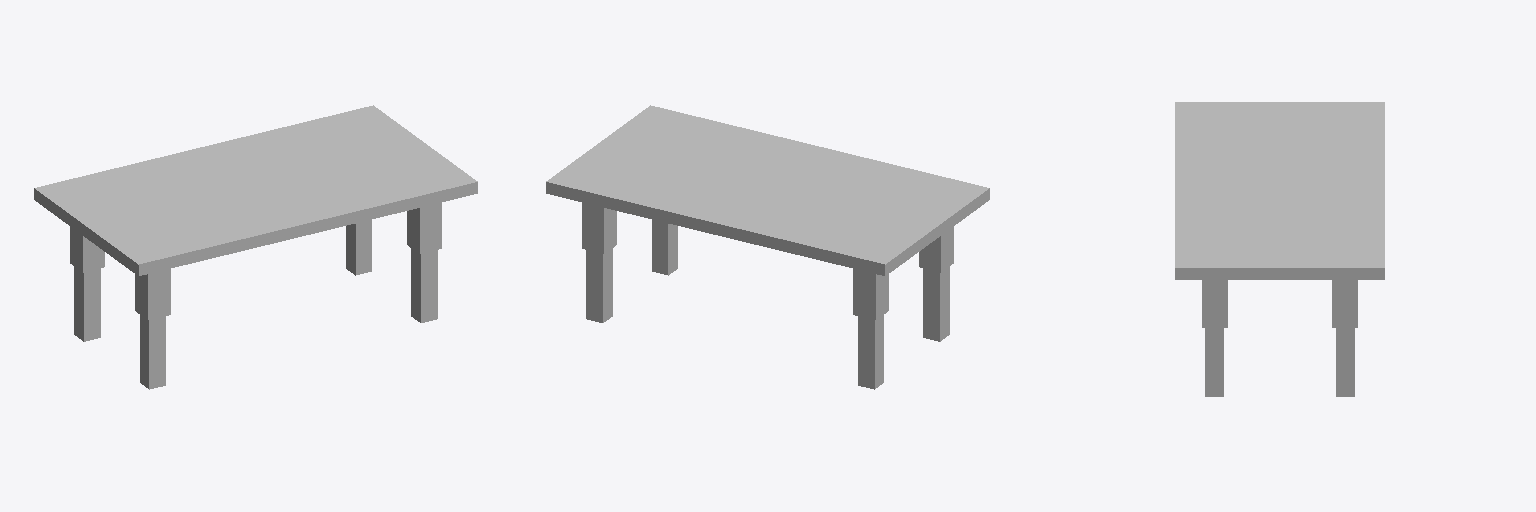
The model's file is table-small.obj.
3 views of the same model, side by side, from view 1: azimuth 30°, elevation 25°; view 2: azimuth 150°, elevation 25°; view 3: azimuth 270°, elevation 25° (orthographic).
Parts seen in each view (by area): view 1: table_Cube.001; view 2: table_Cube.001; view 3: table_Cube.001.
Part boxes in pixels (bbox=[...]): table_Cube.001: bbox=[34, 105, 477, 389]; table_Cube.001: bbox=[546, 105, 989, 389]; table_Cube.001: bbox=[1175, 102, 1384, 396].
Bounding box in the file's own units: 1.5 × 0.6 × 0.8.